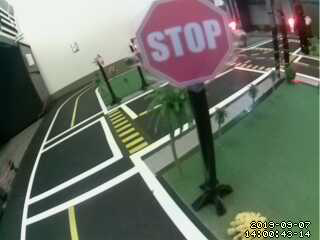Stop_Sign: (127, 2, 243, 97)
